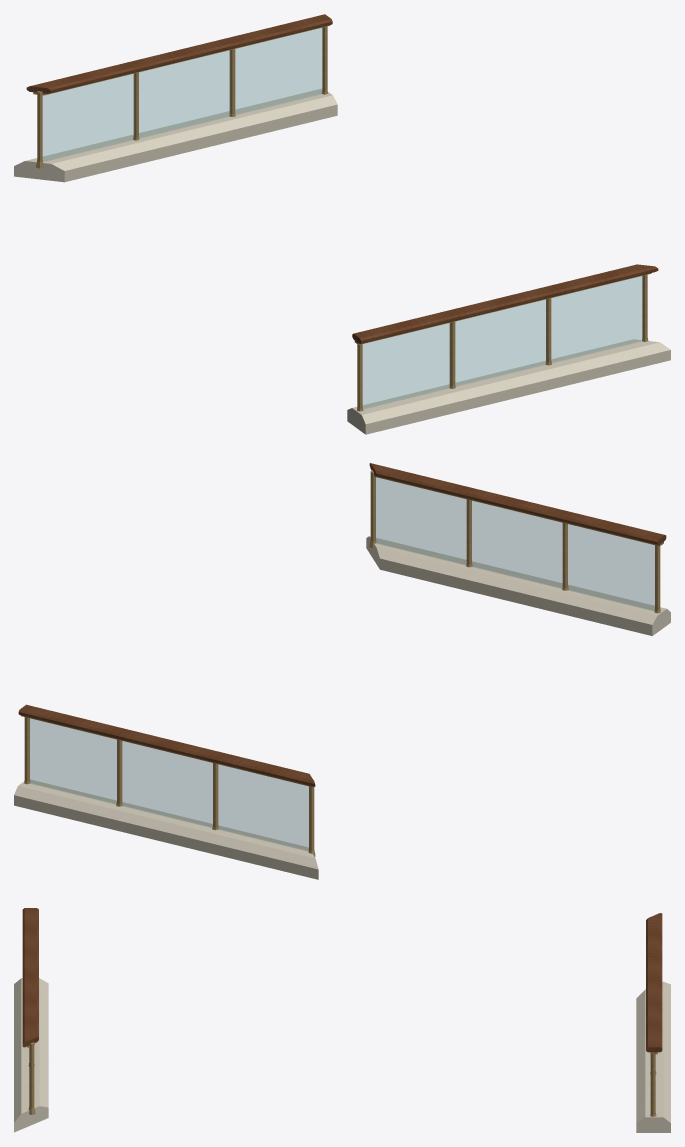
Rendered from WP11_movement_receiving_guards001.glb.
3 renders of one model, top to bottom at view 1: azimuth 30°, elevation 25°; view 2: azimuth 150°, elevation 25°; view 3: azimuth 270°, elevation 25°, orthographic. The views are drawn at different scales.
Parts seen in each view (by area): view 1: WP11Guard_Fore, WP11Guard_Aft, WP11Guard_Fore_GuardPlinth, WP11Guard_Aft_GuardPlinth, WP11Guard_Aft_Handrail, WP11Guard_Fore_Handrail; view 2: WP11Guard_Aft, WP11Guard_Fore, WP11Guard_Aft_GuardPlinth, WP11Guard_Fore_GuardPlinth, WP11Guard_Fore_Handrail, WP11Guard_Aft_Handrail; view 3: WP11Guard_Fore_GuardPlinth, WP11Guard_Aft_GuardPlinth, WP11Guard_Fore_Handrail, WP11Guard_Aft_Handrail, WP11Guard_Aft, WP11Guard_Fore.
Boxes of the visible parts, x1=… form: WP11Guard_Fore: x1=36, y1=26, x2=327, y2=168; WP11Guard_Aft: x1=357, y1=274, x2=648, y2=411; WP11Guard_Fore_GuardPlinth: x1=14, y1=88, x2=337, y2=182; WP11Guard_Aft_GuardPlinth: x1=347, y1=339, x2=670, y2=434; WP11Guard_Aft_Handrail: x1=352, y1=264, x2=658, y2=343; WP11Guard_Fore_Handrail: x1=26, y1=14, x2=332, y2=93; WP11Guard_Aft: x1=369, y1=470, x2=660, y2=613; WP11Guard_Fore: x1=24, y1=717, x2=315, y2=856; WP11Guard_Aft_GuardPlinth: x1=366, y1=536, x2=670, y2=635; WP11Guard_Fore_GuardPlinth: x1=14, y1=779, x2=318, y2=879; WP11Guard_Fore_Handrail: x1=18, y1=704, x2=315, y2=786; WP11Guard_Aft_Handrail: x1=369, y1=463, x2=666, y2=545; WP11Guard_Fore_GuardPlinth: x1=636, y1=981, x2=670, y2=1132; WP11Guard_Aft_GuardPlinth: x1=14, y1=978, x2=48, y2=1132; WP11Guard_Fore_Handrail: x1=646, y1=913, x2=662, y2=1052; WP11Guard_Aft_Handrail: x1=22, y1=908, x2=38, y2=1047; WP11Guard_Aft: x1=28, y1=1042, x2=35, y2=1114; WP11Guard_Fore: x1=650, y1=1054, x2=656, y2=1116.
Size of the model in its own units: 4 by 1.15 by 7.98.
4 materials, 3 textured.
